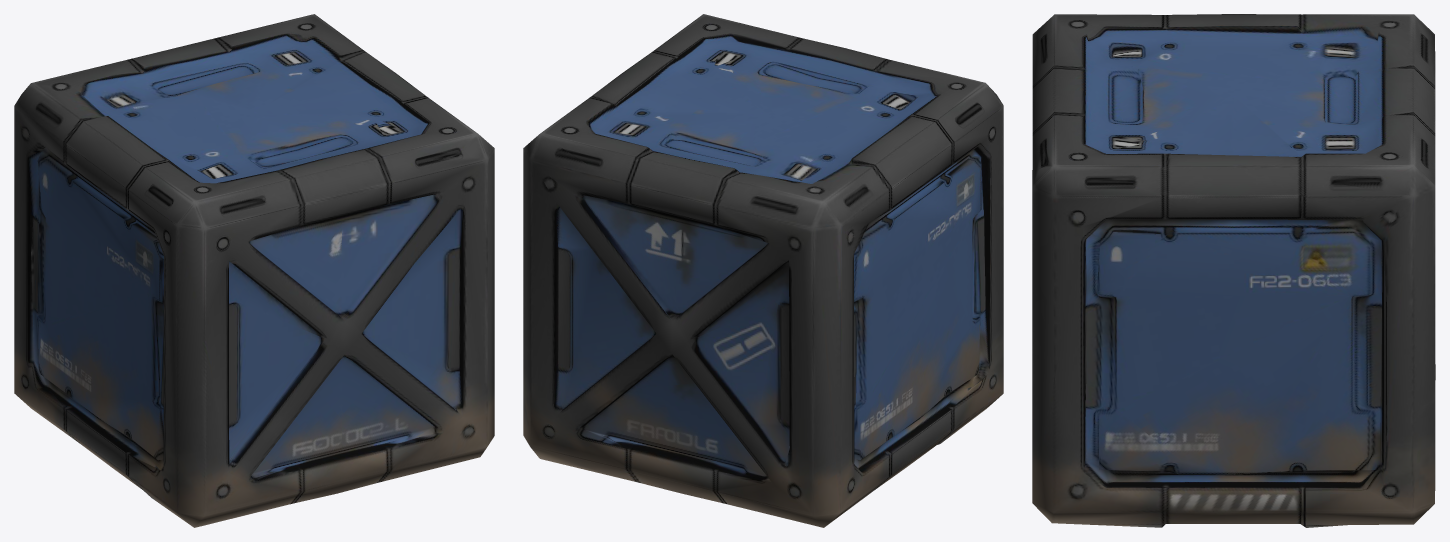
3 views of the same model, side by side, from view 1: azimuth 30°, elevation 25°; view 2: azimuth 150°, elevation 25°; view 3: azimuth 270°, elevation 25° (orthographic). The views are drawn at different scales.
Visible parts, largest first — view 1: tripo_node_19194b51; view 2: tripo_node_19194b51; view 3: tripo_node_19194b51.
Part boxes in pixels (x1,y1,x2,y2): tripo_node_19194b51: (14,14,494,527); tripo_node_19194b51: (523,14,1003,527); tripo_node_19194b51: (1032,14,1435,527).
Bounding box in the file's own units: 0.9993 × 0.9963 × 0.9985.
Materials: 1 (1 with a texture image).
